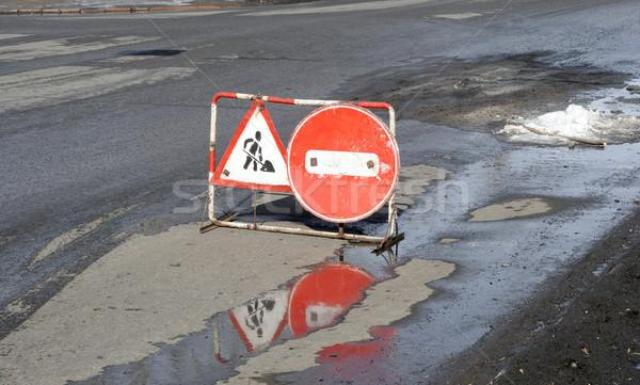B2: (284, 102, 400, 223)
